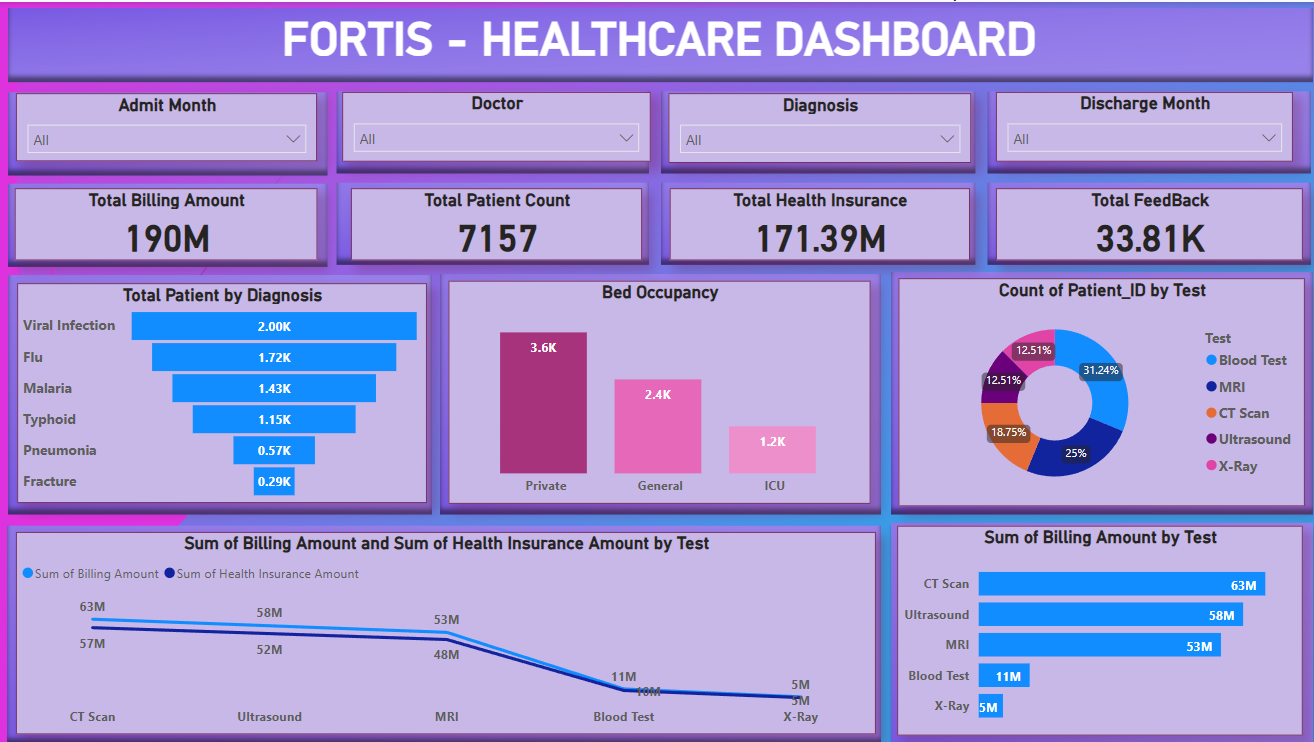

This screenshot's page, from the dashboard's own definition file:
{"tool":"powerbi","page":{"name":"Page 1","canvas":[1280,720],"ordinal":0},"visuals":[{"type":"card","title":"Total Billing Amount","fields":{"Values":["Sum(Sheet1.Billing Amount)"]},"box":[17.8,179.6,292,69.9],"z":0},{"type":"card","title":"Total Health Insurance","fields":{"Values":["Sum(Sheet1.Health Insurance Amount)"]},"box":[649.9,179.6,289.3,69.9],"z":1},{"type":"card","title":"Total FeedBack","fields":{"Values":["Sum(Sheet1.Feedback)"]},"box":[965.2,179.6,296.1,69.9],"z":2},{"type":"card","title":"Total Patient Count","fields":{"Values":["Count(Sheet1.Patient_ID)"]},"box":[342.8,179.6,281.1,69.9],"z":3},{"type":"slicer","title":"Admit Month","fields":{"Values":["Sheet1.Admit_Date.Variation.Date Hierarchy.Month"]},"box":[19.2,87.7,290.7,65.8],"z":4},{"type":"slicer","title":"Doctor","fields":{"Values":["Sheet1.Doctor"]},"box":[334.5,86.4,297.5,67.2],"z":5},{"type":"slicer","title":"Diagnosis","fields":{"Values":["Sheet1.Diagnosis"]},"box":[648.5,87.7,292,67.2],"z":6},{"type":"slicer","title":"Discharge Month","fields":{"Values":["Sheet1.Discharge_Date.Variation.Date Hierarchy.Month"]},"box":[965.2,86.4,286.5,67.2],"z":7},{"type":"columnChart","title":"Bed Occupancy","fields":{"Category":["Sheet1.Bed_Occupancy"],"Y":["CountNonNull(Sheet1.Bed_Occupancy)"]},"box":[437,269,407,215],"z":9},{"type":"donutChart","fields":{"Category":["Sheet1.Test"],"Y":["CountNonNull(Sheet1.Patient_ID)"]},"box":[870.6,266,392,220],"z":10},{"type":"lineChart","fields":{"Y":["Sum(Sheet1.Billing Amount)","Sum(Sheet1.Health Insurance Amount)"],"Category":["Sheet1.Test"]},"box":[19.3,511.4,829.7,195.4],"z":11},{"type":"funnel","title":"Total Patient by Diagnosis","fields":{"Category":["Sheet1.Diagnosis"],"Y":["CountNonNull(Sheet1.Patient_ID)"]},"box":[20,271,394.9,212],"z":12},{"type":"barChart","fields":{"Y":["Sum(Sheet1.Billing Amount)"],"Category":["Sheet1.Test"]},"box":[870,505.9,391,202],"z":13},{"type":"shape","title":"FORTIS - HEALTHCARE DASHBOARD","box":[17.8,9.6,1243.5,57.6],"z":14}]}

Visuals, with their boxes in screenshot pixels (x1, y1, x2, y2), scaled from the page's 1280x720 canvas onto the 1314x742 screenshot:
"Total Billing Amount" card: {"left": 18, "top": 185, "right": 318, "bottom": 257}
"Total Health Insurance" card: {"left": 667, "top": 185, "right": 964, "bottom": 257}
"Total FeedBack" card: {"left": 991, "top": 185, "right": 1295, "bottom": 257}
"Total Patient Count" card: {"left": 352, "top": 185, "right": 640, "bottom": 257}
"Admit Month" slicer: {"left": 20, "top": 90, "right": 318, "bottom": 158}
"Doctor" slicer: {"left": 343, "top": 89, "right": 649, "bottom": 158}
"Diagnosis" slicer: {"left": 666, "top": 90, "right": 965, "bottom": 160}
"Discharge Month" slicer: {"left": 991, "top": 89, "right": 1285, "bottom": 158}
"Bed Occupancy" columnChart: {"left": 449, "top": 277, "right": 866, "bottom": 499}
donutChart - Sheet1.Test x CountNonNull(Sheet1.Patient_ID): {"left": 894, "top": 274, "right": 1296, "bottom": 501}
lineChart - Sum(Sheet1.Billing Amount) x Sum(Sheet1.Health Insurance Amount): {"left": 20, "top": 527, "right": 872, "bottom": 728}
"Total Patient by Diagnosis" funnel: {"left": 21, "top": 279, "right": 426, "bottom": 498}
barChart - Sum(Sheet1.Billing Amount) x Sheet1.Test: {"left": 893, "top": 521, "right": 1294, "bottom": 730}
"FORTIS - HEALTHCARE DASHBOARD" shape: {"left": 18, "top": 10, "right": 1295, "bottom": 69}
